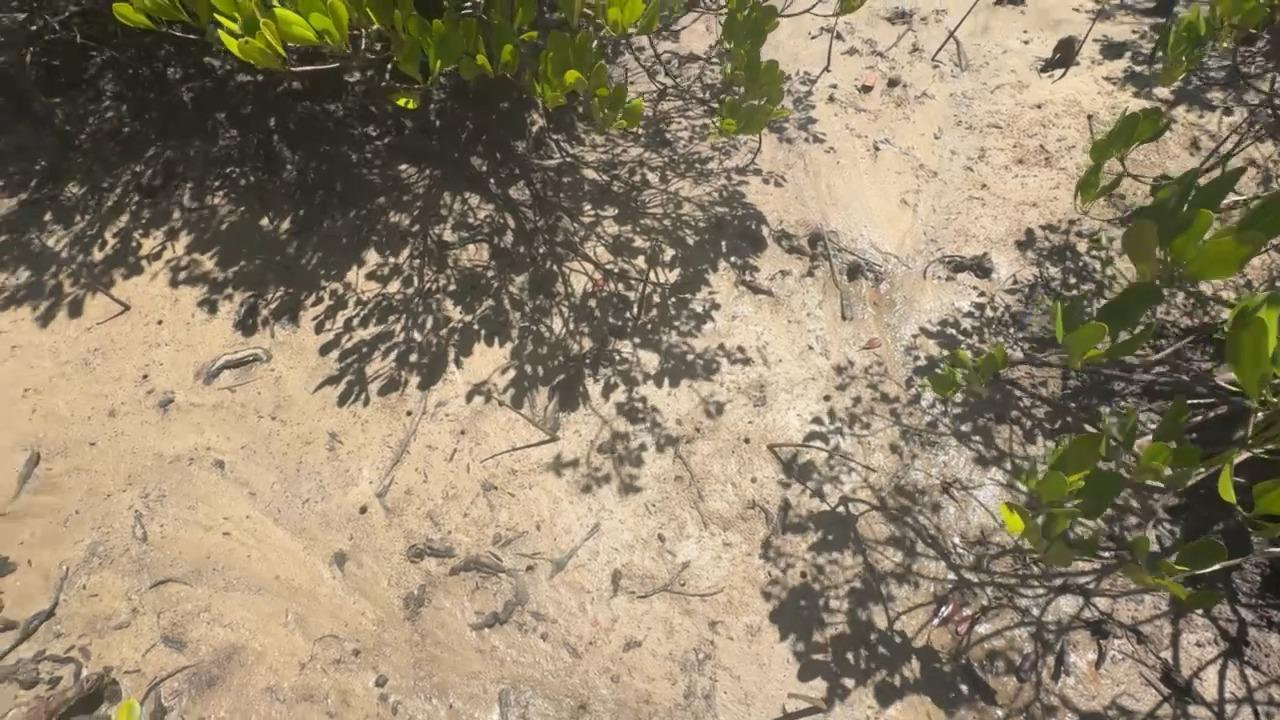Tree: (34, 234, 132, 308), (472, 383, 561, 443), (768, 443, 878, 474), (1061, 4, 1106, 78), (931, 0, 980, 60), (826, 0, 865, 67), (635, 238, 658, 321), (788, 692, 829, 710), (758, 133, 762, 150)
